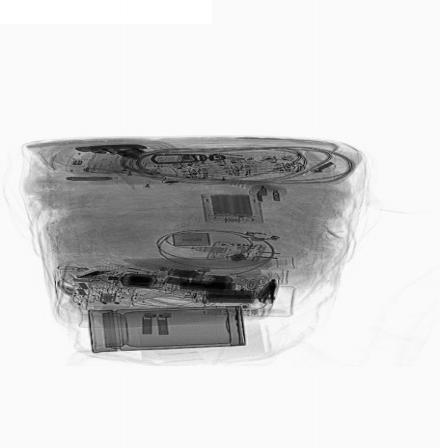Powerbank: (200, 193, 267, 225)
